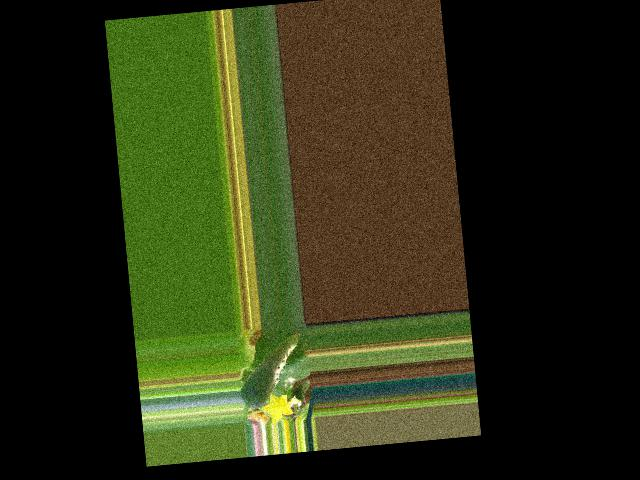cucumber: (235, 332, 307, 410)
